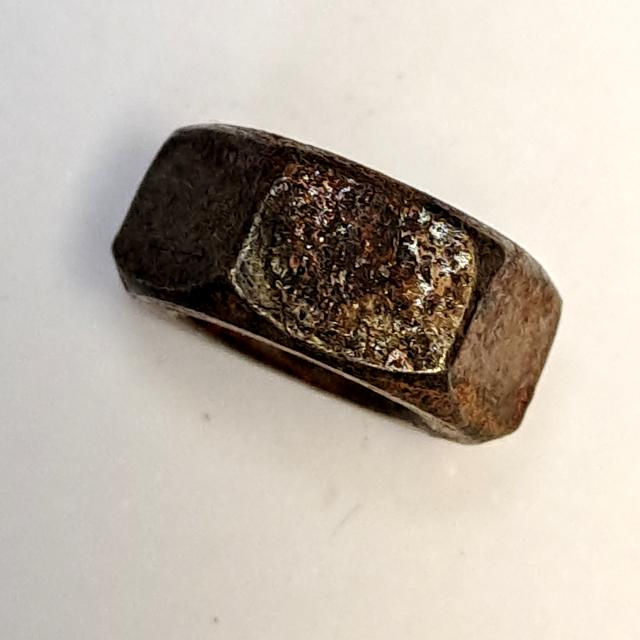Side_Rust: (89, 102, 580, 469)
